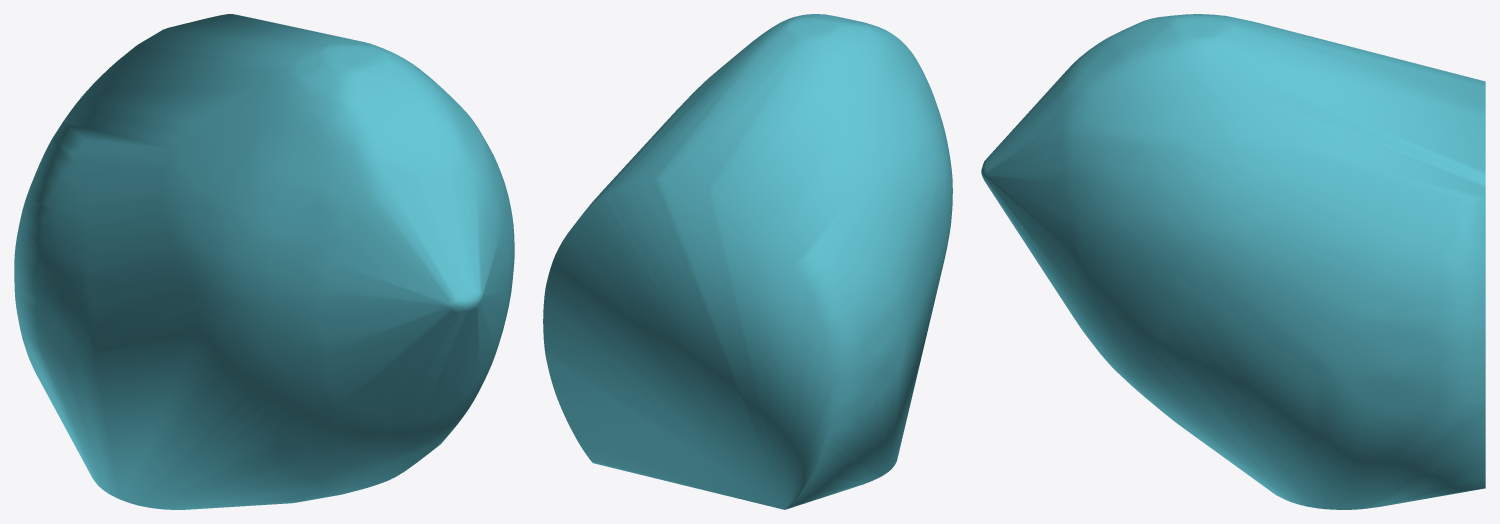
Rendered from bee_toy_1_coacd_single_link_urdf_convex_piece_2.obj.
3 views of the same model, side by side, from view 1: azimuth 30°, elevation 25°; view 2: azimuth 150°, elevation 25°; view 3: azimuth 270°, elevation 25° (orthographic). The views are drawn at different scales.
Bounding box in the file's own units: 0.1772 × 0.2044 × 0.2274.
